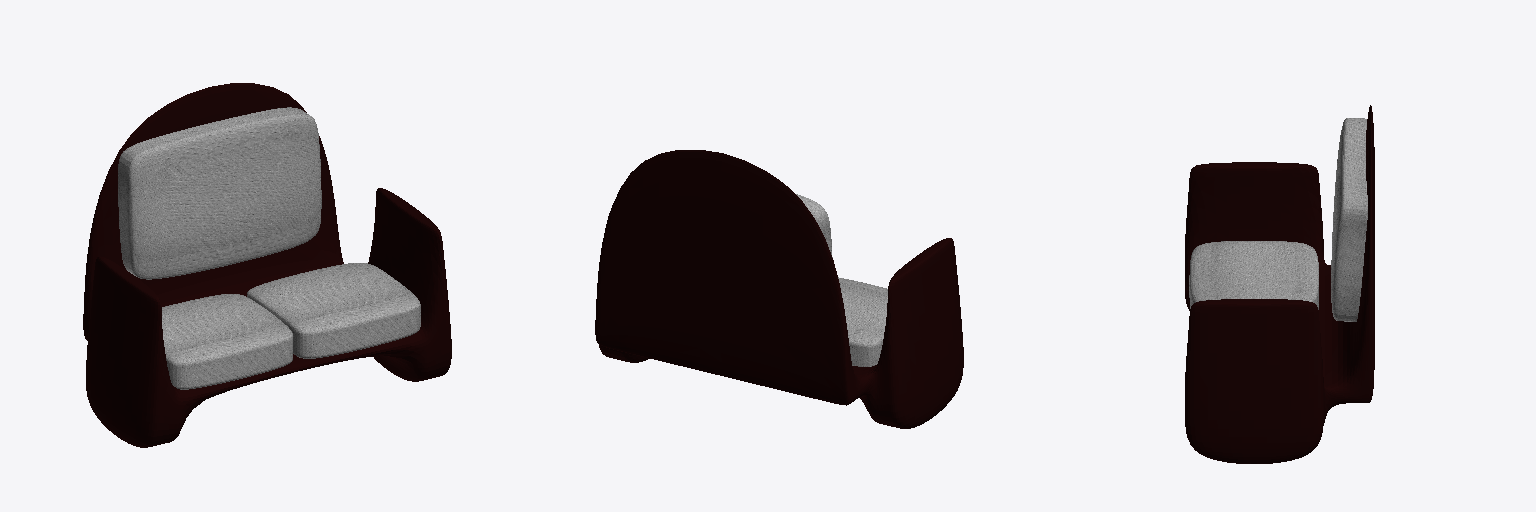
The picture shows the model from 3 angles: view 1: azimuth 30°, elevation 25°; view 2: azimuth 150°, elevation 25°; view 3: azimuth 270°, elevation 25°; orthographic projection.
Parts seen in each view (by area): view 1: Box1, Box3, Box2, Box; view 2: Box1, Box, Box3; view 3: Box1, Box, Box3.
Part boxes in pixels (x1,y1,x2,y2): Box1: (83,83,451,447); Box3: (118,107,321,279); Box2: (247,263,420,358); Box: (162,294,292,389); Box1: (595,150,963,428); Box: (838,277,887,366); Box3: (796,194,832,257); Box1: (1185,105,1374,463); Box: (1189,241,1318,309); Box3: (1331,118,1367,321).
Size of the model in its own units: 8.01 by 6.63 by 4.2.
Materials: 2 (1 with a texture image).